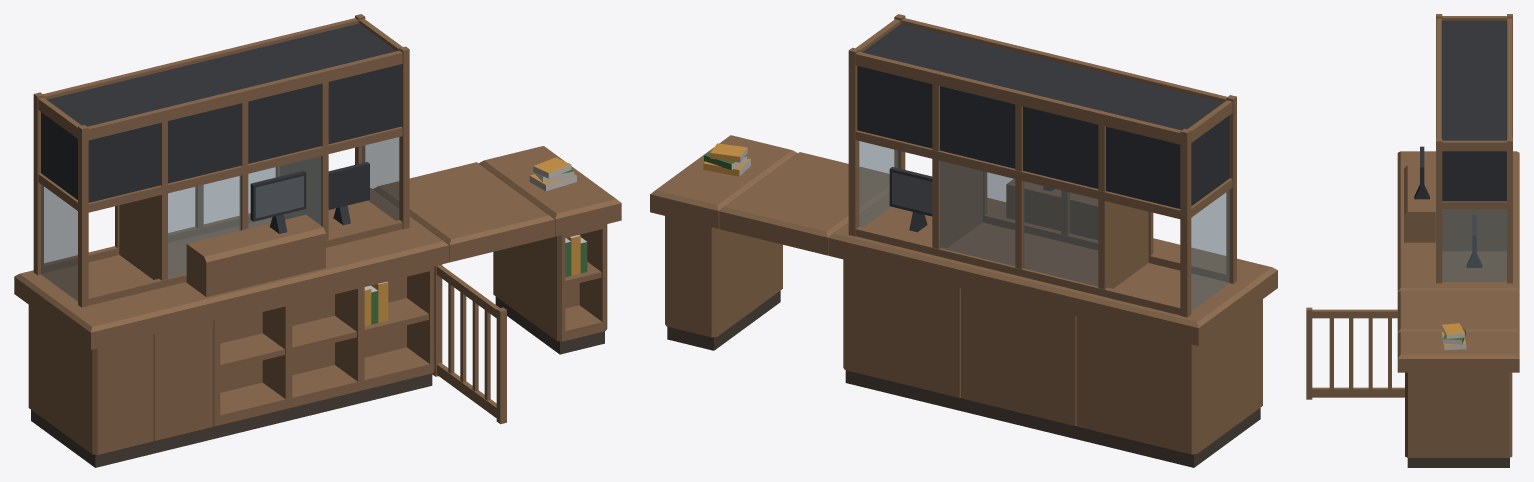
The model's file is issue-desk-with-gate-3ee2a9.glb.
3 views of the same model, side by side, from view 1: azimuth 30°, elevation 25°; view 2: azimuth 150°, elevation 25°; view 3: azimuth 270°, elevation 25° (orthographic). The views are drawn at different scales.
Parts seen in each view (by area): view 1: object 1, object 2, flap, gate, object 5; view 2: object 1, object 2, flap, object 5; view 3: object 1, flap, object 2, gate, object 5.
Boxes of the visible parts, left/top/right/bottom form: object 1: left=14, top=14, right=621, bottom=467; object 2: left=41, top=137, right=399, bottom=301; flap: left=373, top=162, right=554, bottom=262; gate: left=432, top=264, right=506, bottom=424; object 5: left=364, top=157, right=587, bottom=325; object 1: left=650, top=14, right=1277, bottom=467; object 2: left=859, top=141, right=1229, bottom=310; flap: left=719, top=152, right=889, bottom=255; object 5: left=703, top=143, right=750, bottom=176; object 1: left=1397, top=14, right=1519, bottom=467; flap: left=1397, top=290, right=1519, bottom=332; object 2: left=1442, top=209, right=1506, bottom=281; gate: left=1306, top=307, right=1404, bottom=399; object 5: left=1441, top=323, right=1466, bottom=349.
Size of the model in its own units: 4 by 2.34 by 1.75.
